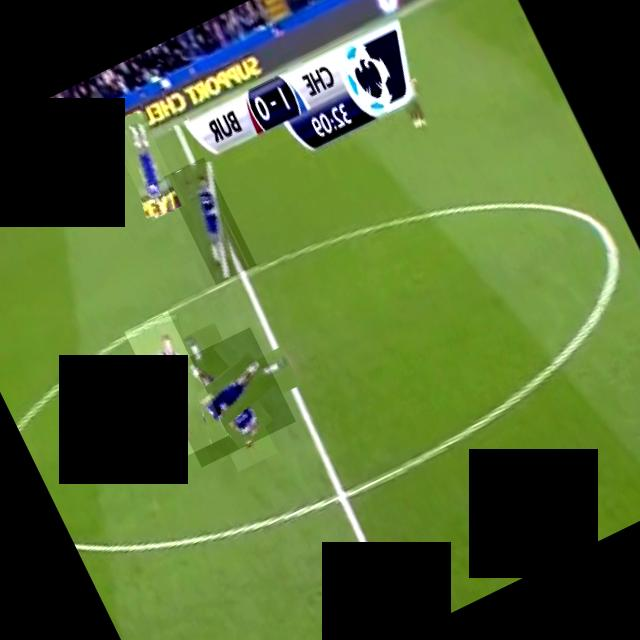soccer-player: (154, 326, 294, 466), (122, 310, 226, 456), (162, 156, 255, 284), (104, 108, 184, 220)
